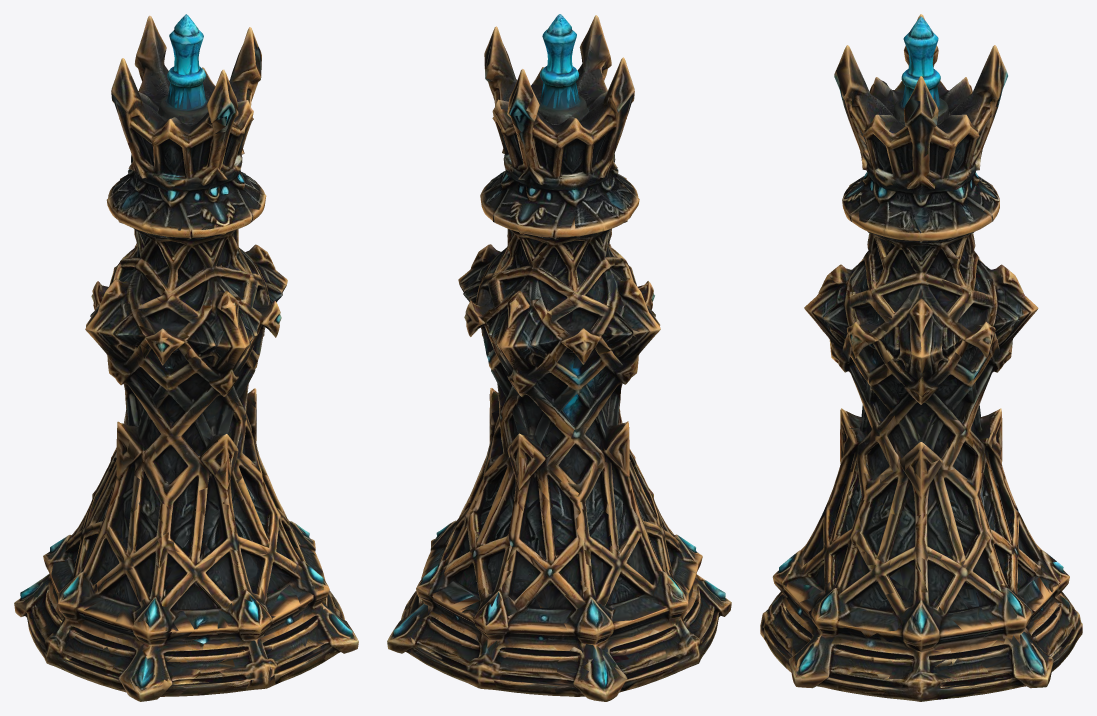
File: Crystal_Citadel.glb
The picture shows the model from 3 angles, left to right: view 1: azimuth 30°, elevation 25°; view 2: azimuth 150°, elevation 25°; view 3: azimuth 270°, elevation 25°; orthographic projection.
Parts seen in each view (by area): view 1: Crystal_Citadel; view 2: Crystal_Citadel; view 3: Crystal_Citadel.
Part boxes in pixels (x1=…): Crystal_Citadel: x1=14, y1=14, x2=358, y2=701; Crystal_Citadel: x1=387, y1=14, x2=731, y2=701; Crystal_Citadel: x1=760, y1=14, x2=1082, y2=701.
Size of the model in its own units: 0.899 by 1.9 by 0.8978.
Materials: 1 (1 with a texture image).
